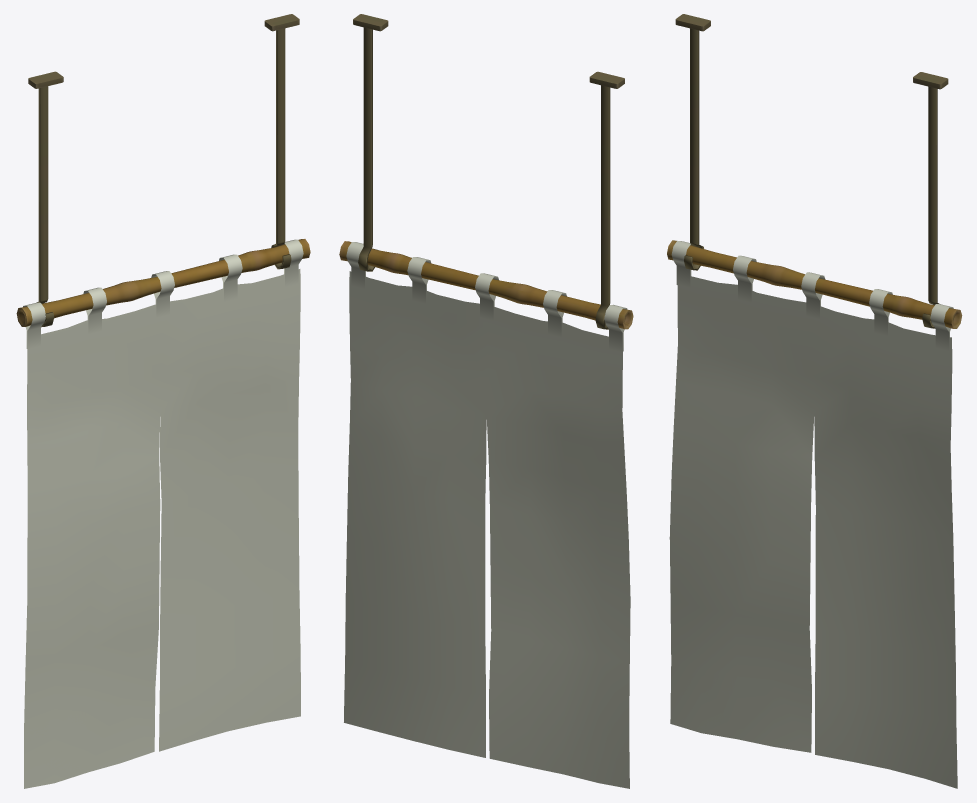
3 views of the same model, side by side, from view 1: azimuth 30°, elevation 25°; view 2: azimuth 150°, elevation 25°; view 3: azimuth 330°, elevation 25° (orthographic).
Bounding box in the file's own units: 10.02 × 23.77 × 0.8473.
Materials: 2 (2 with a texture image).
